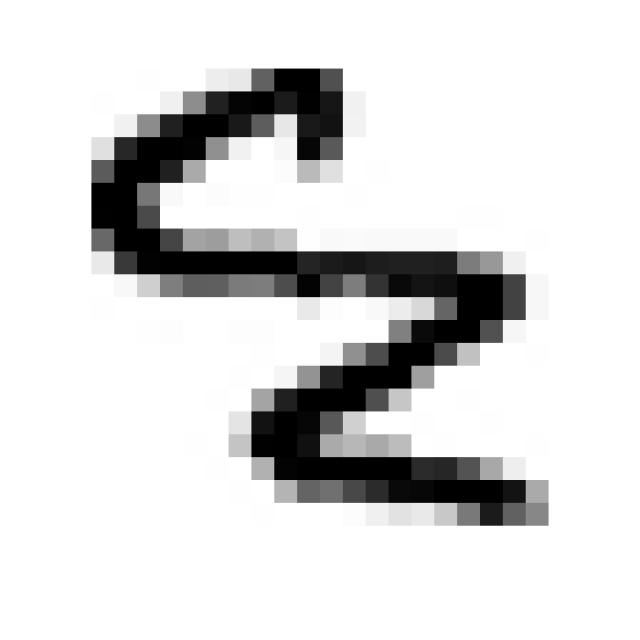4 -four-: (69, 50, 569, 546)
